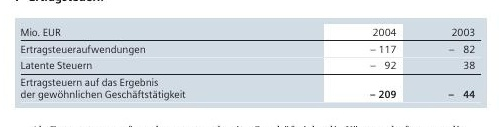table: (0, 0, 499, 127)
